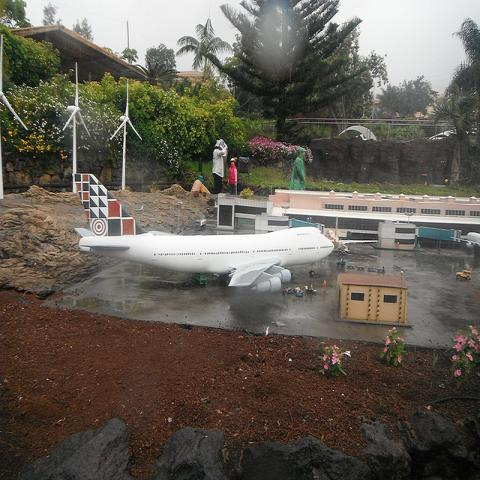car: (430, 129, 456, 140), (455, 270, 472, 280)
